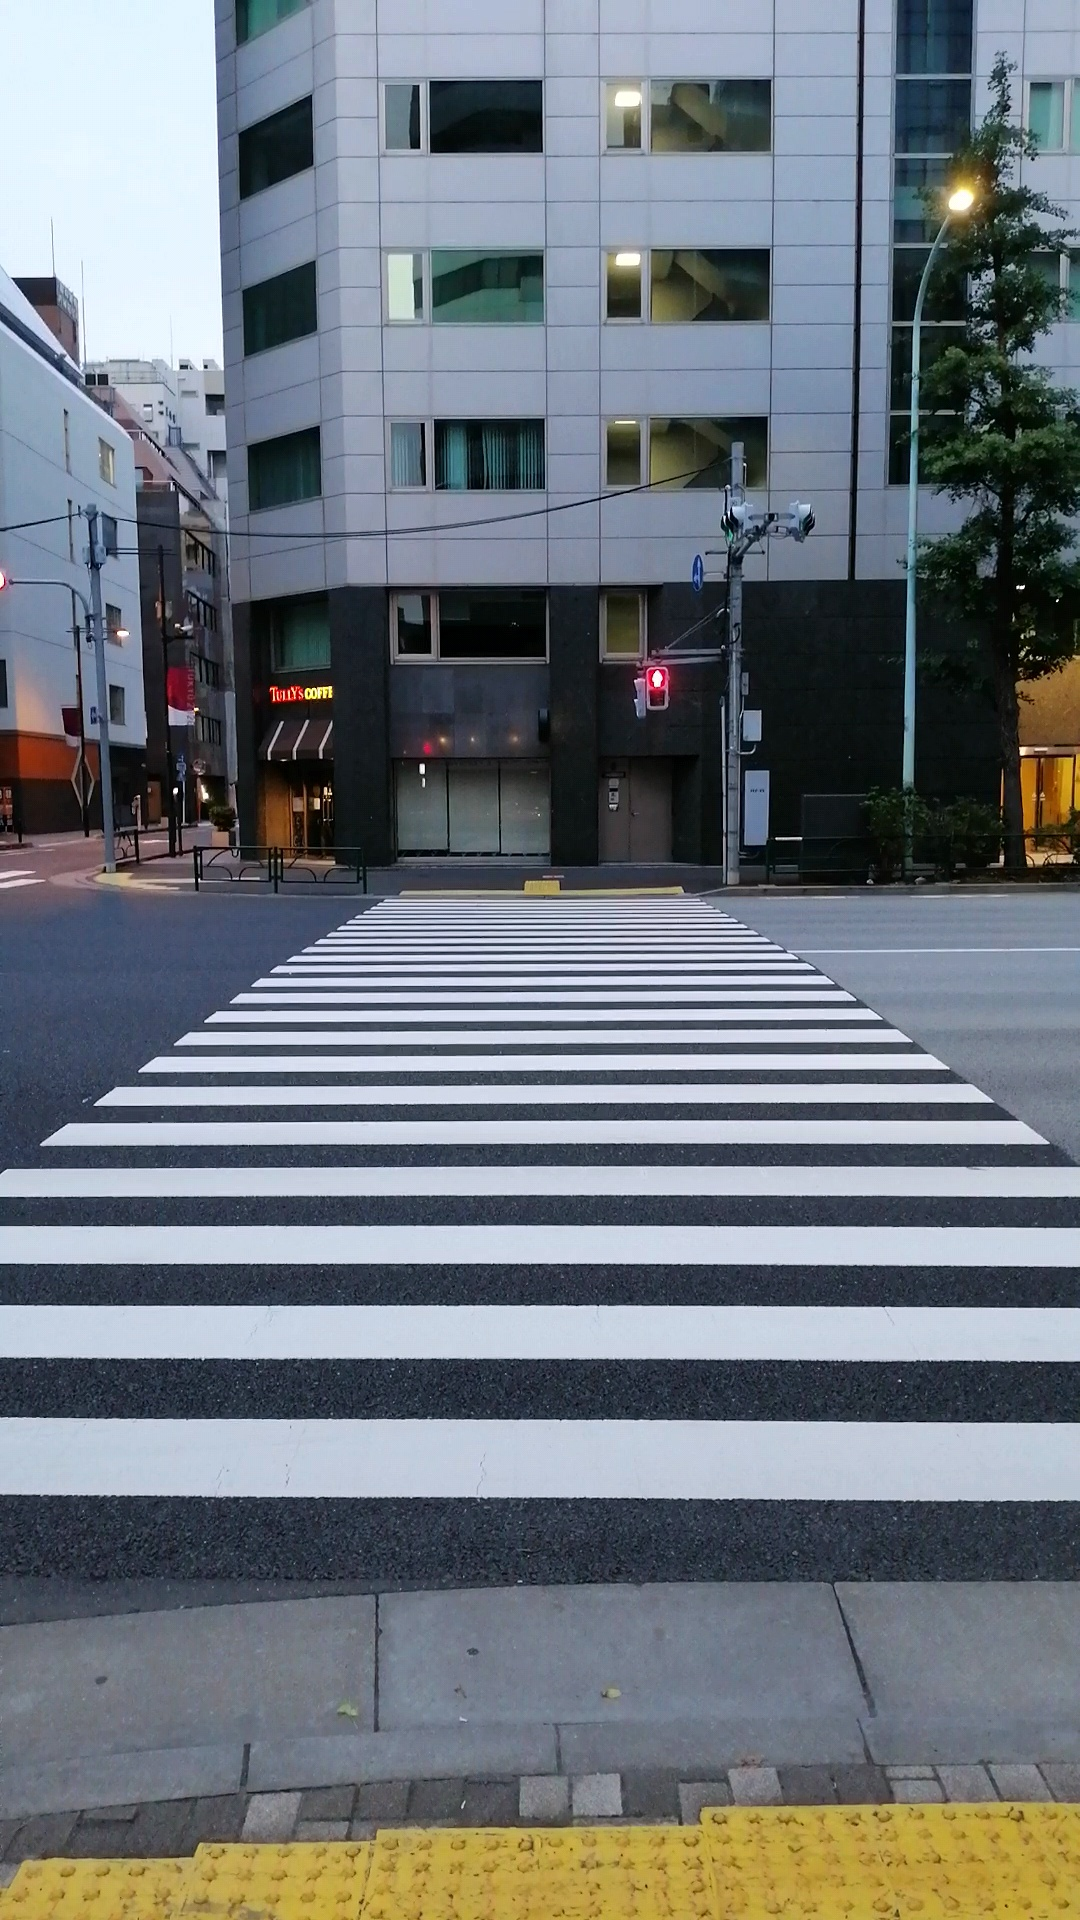red: (644, 666, 669, 711)
